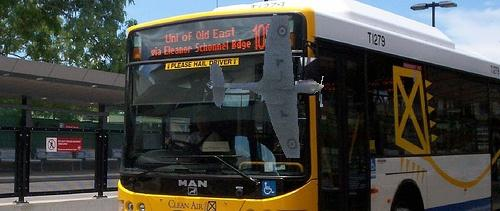tampered: (209, 15, 324, 158)
